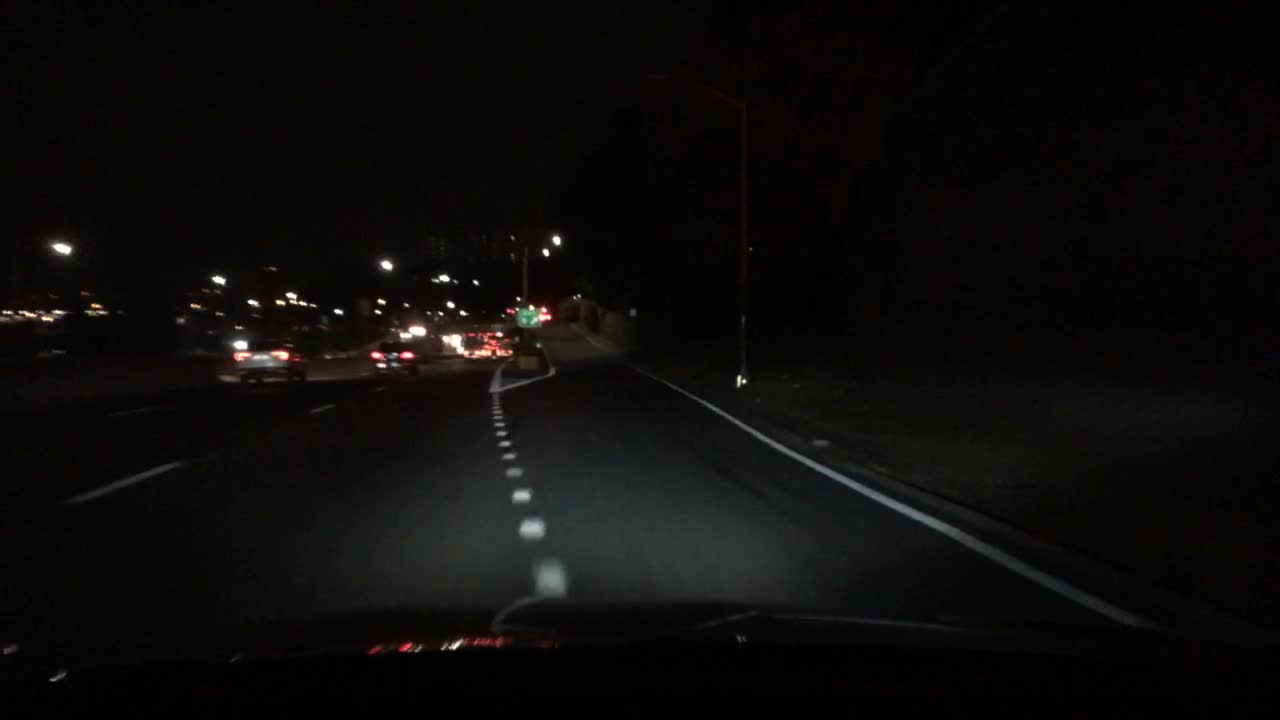car: (229, 337, 308, 382), (368, 343, 423, 376), (463, 346, 487, 362), (494, 344, 512, 360)
traffic sign: (514, 306, 540, 328)
